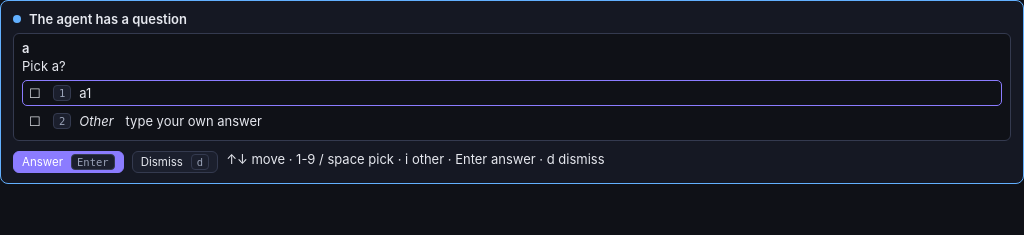
Test case: multi-select: turning Other off by click gives the keyboard back to the card
Click the text "Other": [96, 121] box [79,113,114,129]
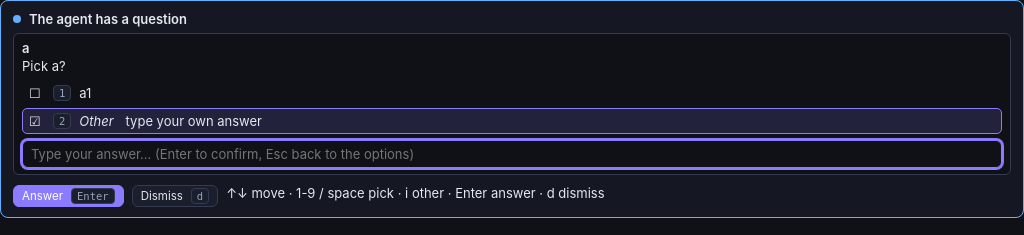
Click the text "Other": [96, 121] box [79,113,114,129]
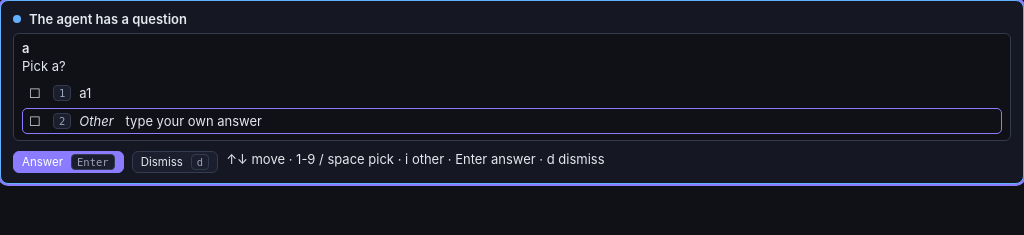
Expected: the field with class "other-input" is gone
